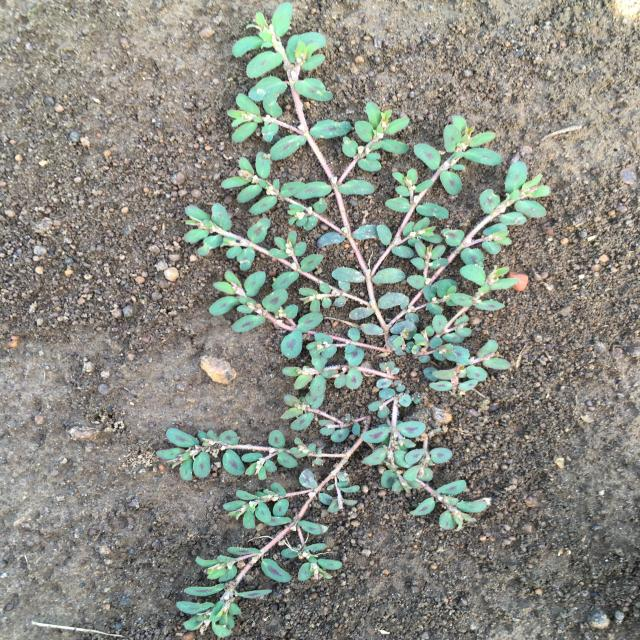SpottedSpurge: (155, 2, 550, 637)
